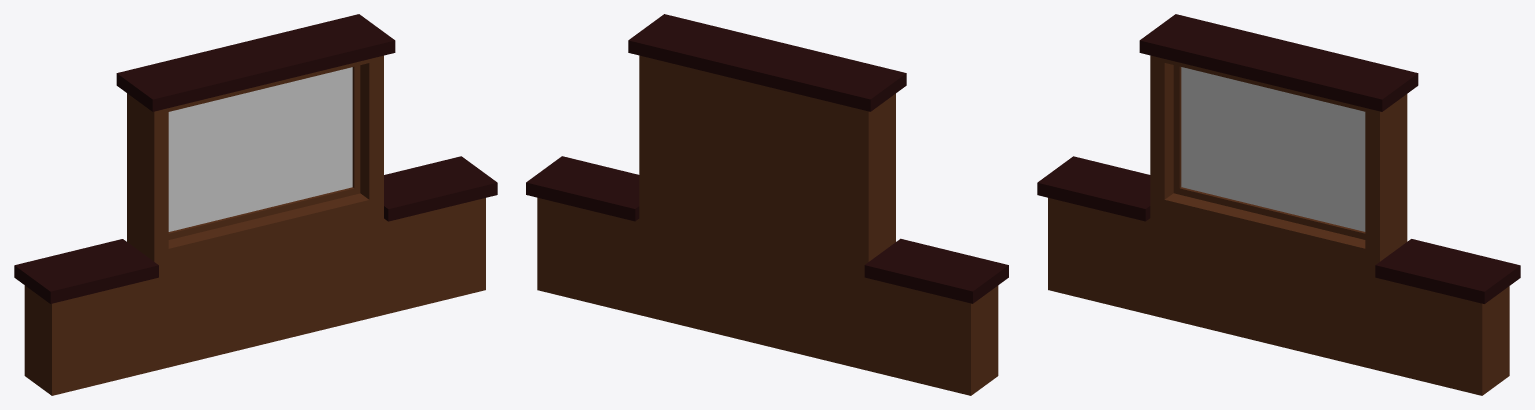
Rendered from Suburb_Church_Stand.FBX.
3 views of the same model, side by side, from view 1: azimuth 30°, elevation 25°; view 2: azimuth 150°, elevation 25°; view 3: azimuth 330°, elevation 25° (orthographic).
Parts seen in each view (by area): view 1: Church_obelisk; view 2: Church_obelisk; view 3: Church_obelisk.
Part boxes in pixels (left/top/right/bottom): Church_obelisk: left=14, top=14, right=497, bottom=395; Church_obelisk: left=526, top=14, right=1008, bottom=395; Church_obelisk: left=1037, top=14, right=1520, bottom=395.
Bounding box in the file's own units: 33.03 × 19.51 × 4.62.
